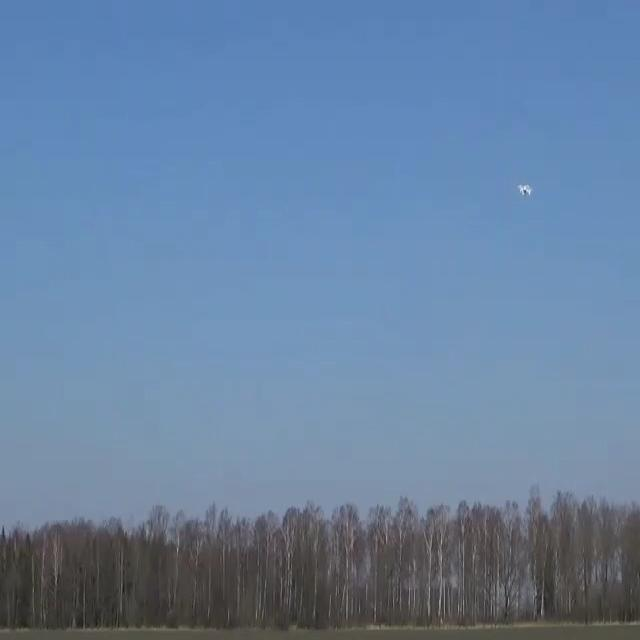drone: (517, 184, 532, 196)
